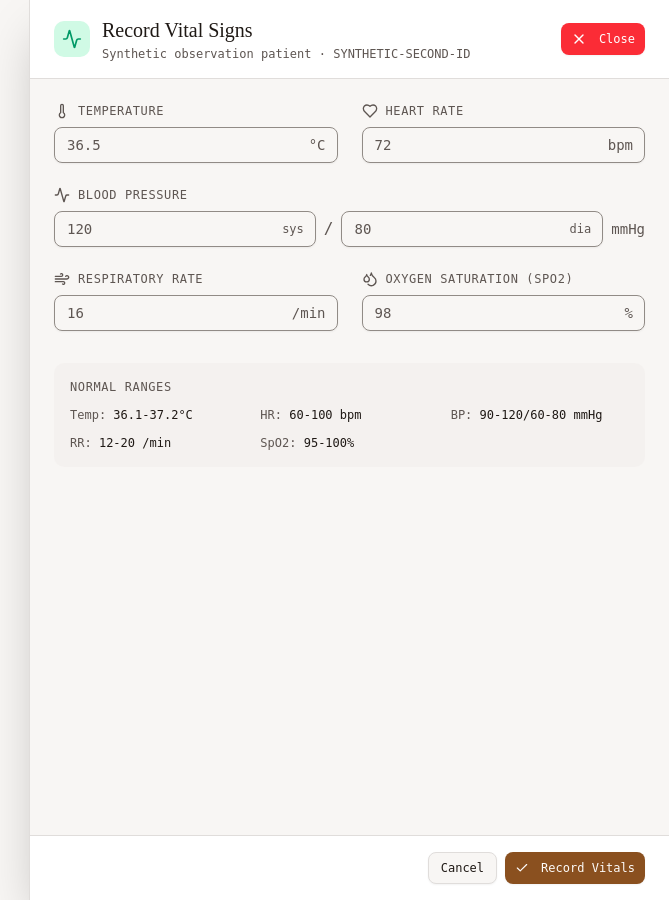
Test: rejects a fractional Heart Rate without truncating or posting the observation
Type "80.5" into the number field labelled "Heart Rate" at (503, 145), box left=362, top=127, right=645, bottom=163
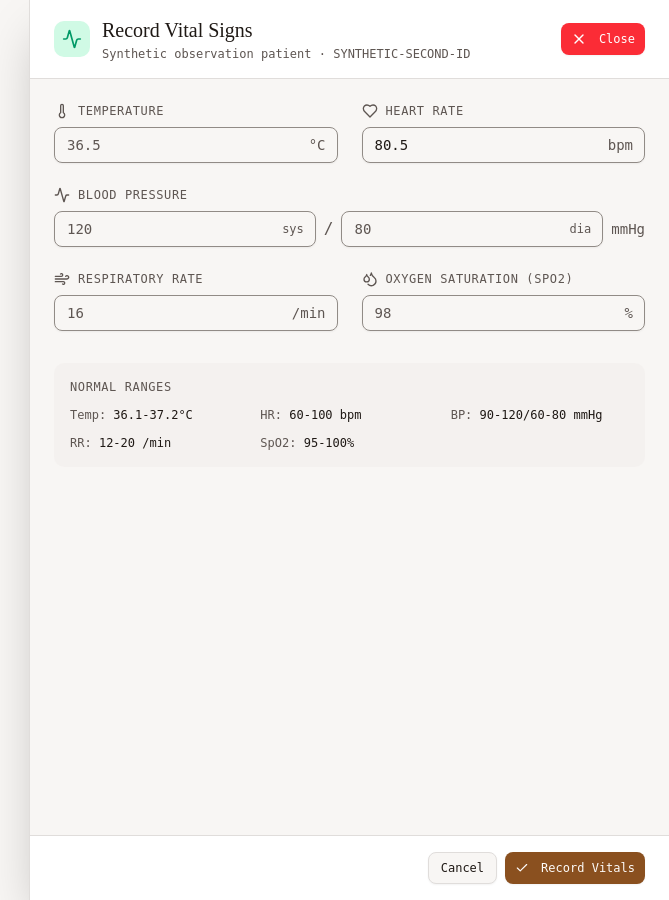
Click the button "Record Vitals" at (575, 868), box left=505, top=852, right=645, bottom=884
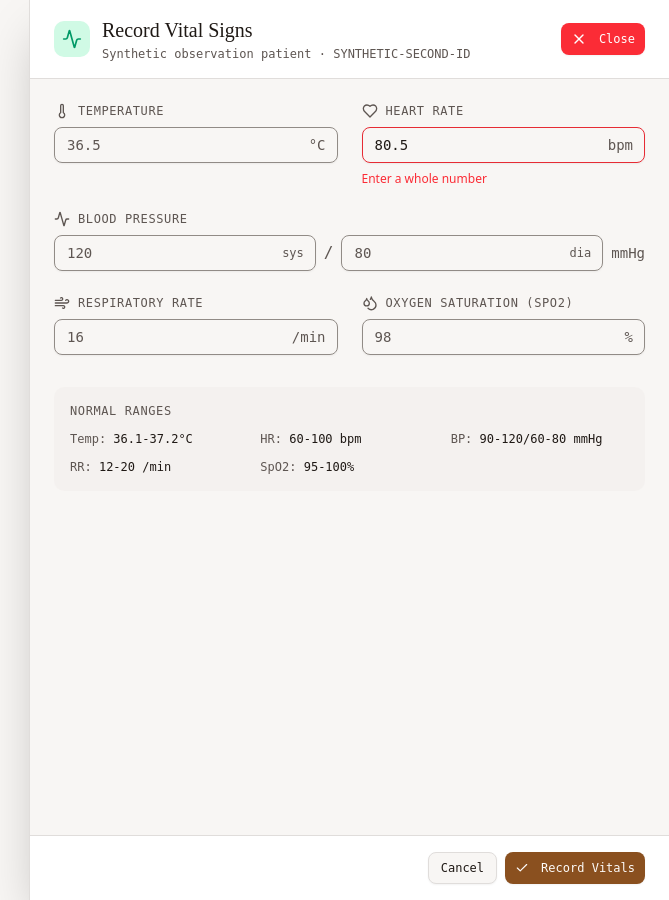
Result: the text "Enter a whole number" is shown at left=362, top=170, right=487, bottom=187
